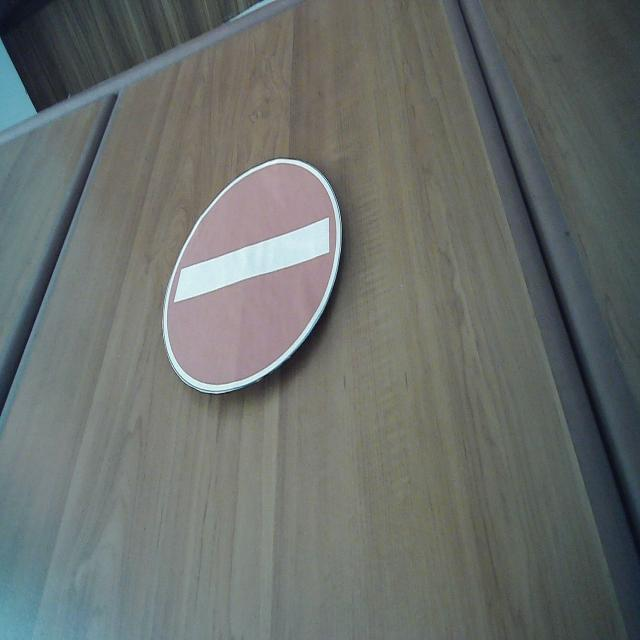no_entry: (161, 156, 345, 396)
